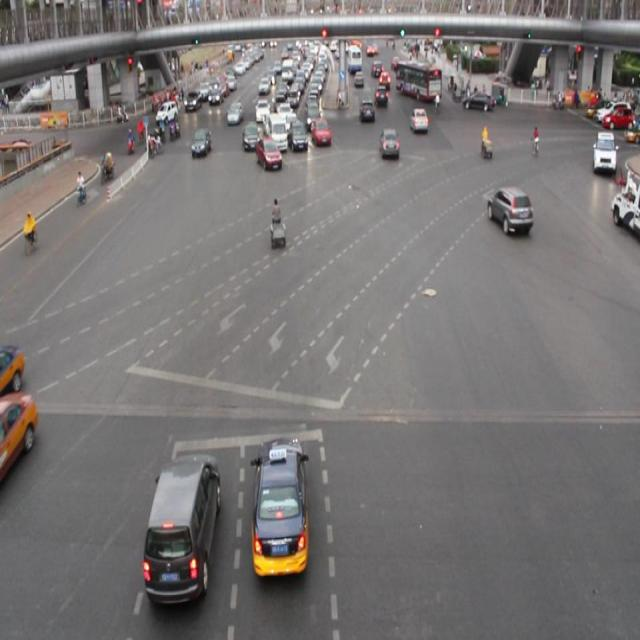car: (250, 437, 312, 576), (1, 391, 39, 477), (487, 184, 533, 234), (1, 343, 28, 398), (256, 136, 281, 170), (379, 126, 400, 161), (188, 128, 212, 158), (289, 117, 307, 153), (311, 116, 331, 147), (242, 120, 260, 150), (408, 106, 427, 132), (360, 99, 376, 126)
truck: (144, 452, 219, 603), (267, 114, 287, 150)
